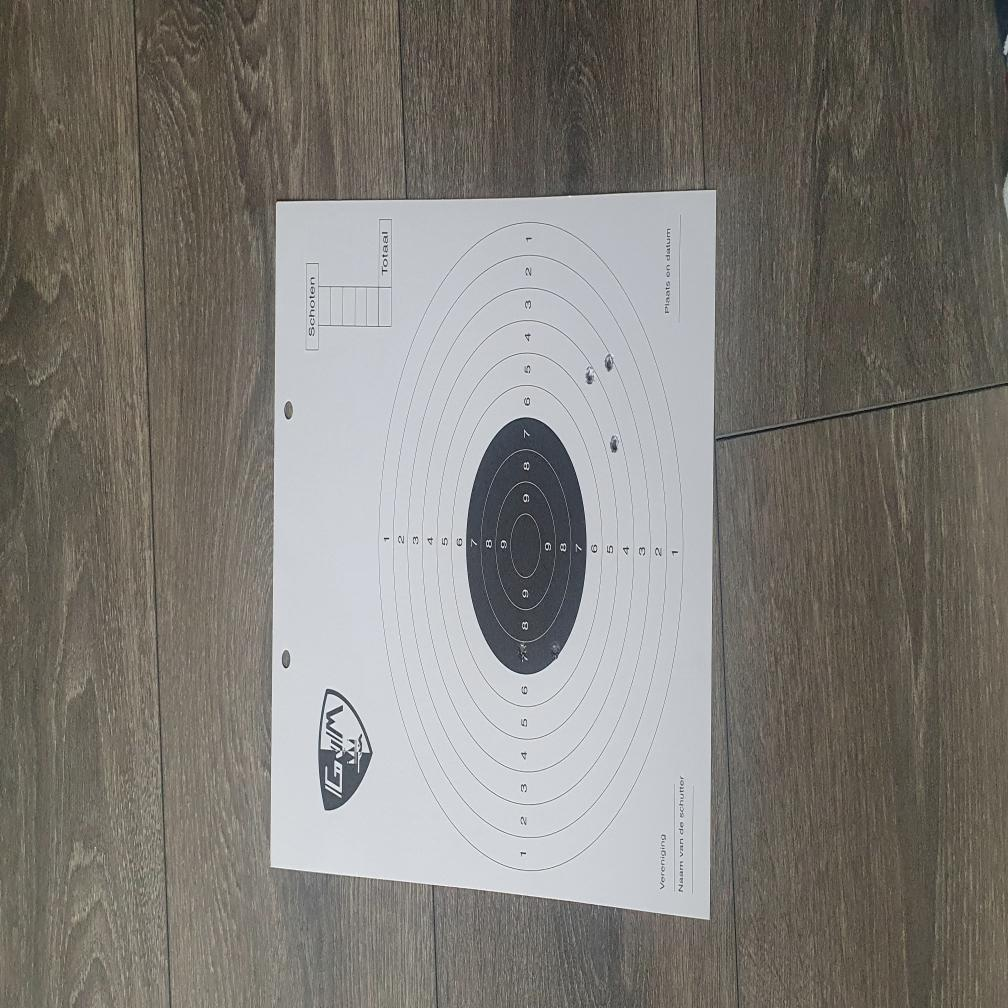3: (604, 353, 616, 375)
4: (608, 429, 621, 458), (583, 365, 596, 391)
7: (517, 640, 528, 663), (550, 638, 560, 662)
Target: (378, 219, 684, 875)
black_contour: (467, 416, 587, 676)
